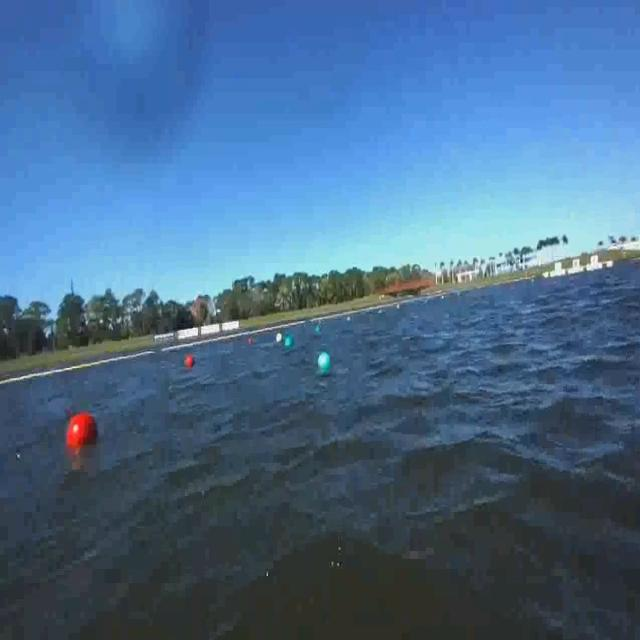green-buoy: (320, 350, 333, 371), (284, 336, 294, 350)
red-buoy: (68, 414, 100, 457), (185, 353, 194, 369)
